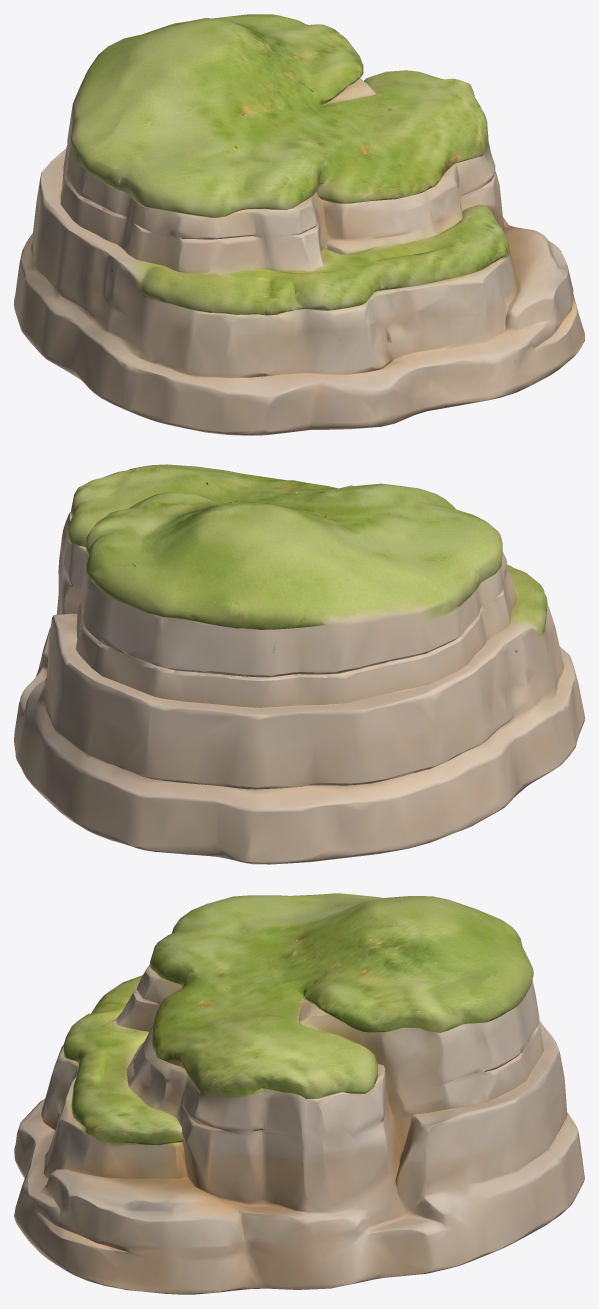
The model's file is toy-coastal-bluff-mobile.glb.
The picture shows the model from 3 angles, top to bottom: view 1: azimuth 30°, elevation 25°; view 2: azimuth 150°, elevation 25°; view 3: azimuth 270°, elevation 25°; orthographic projection. The views are drawn at different scales.
Parts seen in each view (by area): view 1: model; view 2: model; view 3: model.
Part boxes in pixels (x1,y1,x2,y2): model: (14, 14, 584, 435); model: (14, 464, 584, 864); model: (14, 893, 584, 1294).
Bounding box in the file's own units: 1.76 × 0.9487 × 1.9.
1 material, 1 textured.
